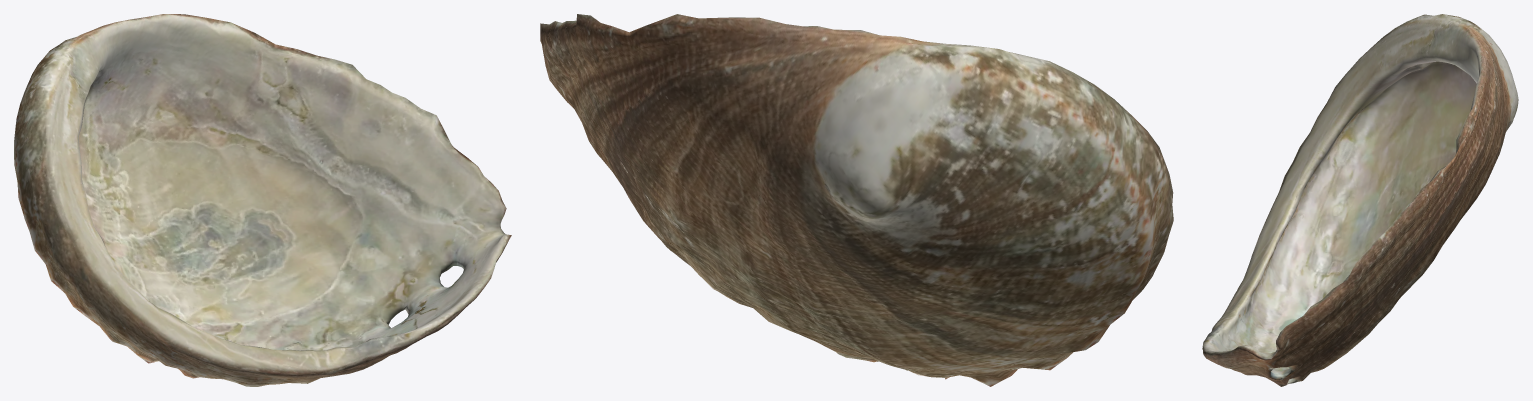
Rendered from abalone-shell.glb.
The picture shows the model from 3 angles, left to right: view 1: azimuth 30°, elevation 25°; view 2: azimuth 150°, elevation 25°; view 3: azimuth 270°, elevation 25°; orthographic projection. The views are drawn at different scales.
Visible parts, largest first — view 1: IridescenceAbalone; view 2: IridescenceAbalone; view 3: IridescenceAbalone.
Boxes of the visible parts, x1,y1,x2,y2 form: IridescenceAbalone: [14, 14, 511, 386]; IridescenceAbalone: [540, 14, 1173, 386]; IridescenceAbalone: [1202, 14, 1518, 386].
Bounding box in the file's own units: 0.2321 × 0.1556 × 0.1584.
1 material, 1 textured.
